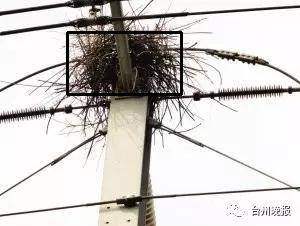bird-nest: (67, 32, 181, 94)
